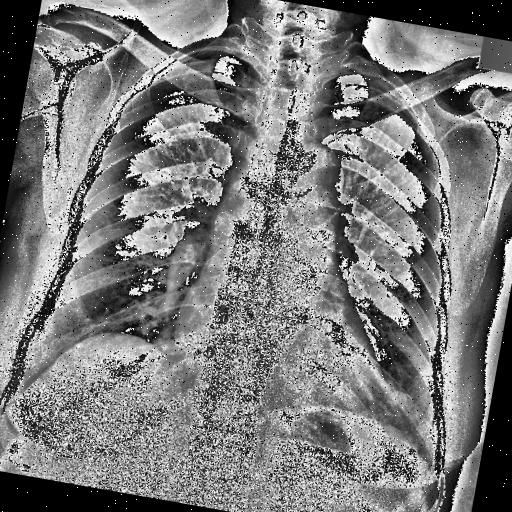0- Aortic enlargement: (272, 136, 354, 249), (275, 139, 351, 240), (268, 136, 348, 214)
3- Cardiomegaly: (164, 311, 400, 419)
